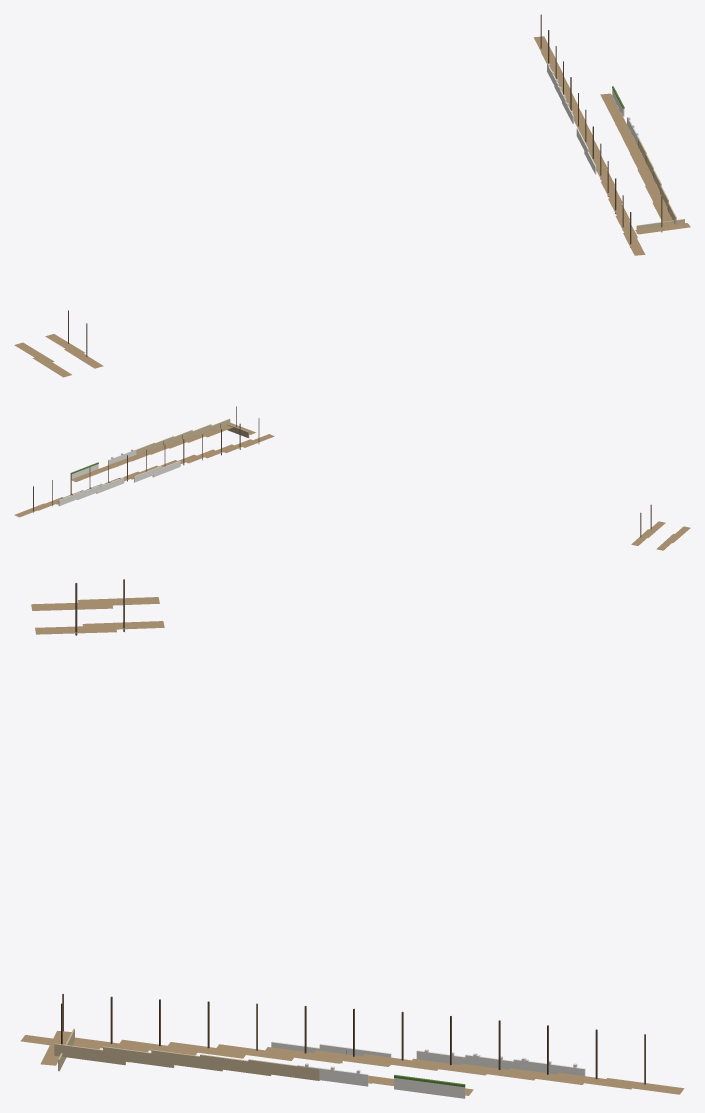
File: noord_res_-15_-12.glb
3 renders of one model, top to bottom at view 1: azimuth 30°, elevation 25°; view 2: azimuth 150°, elevation 25°; view 3: azimuth 270°, elevation 25°, orthographic. The views are drawn at different scales.
Parts seen in each view (by area): view 1: noord_res_-15_-12_lod0; view 2: noord_res_-15_-12_lod0; view 3: noord_res_-15_-12_lod0.
Boxes of the visible parts, left/top/right/bottom form: noord_res_-15_-12_lod0: left=14, top=14, right=690, bottom=377; noord_res_-15_-12_lod0: left=14, top=406, right=690, bottom=550; noord_res_-15_-12_lod0: left=21, top=579, right=684, bottom=1098.
Size of what is drawn, in the model's own units: 177 by 14.63 by 98.2.
